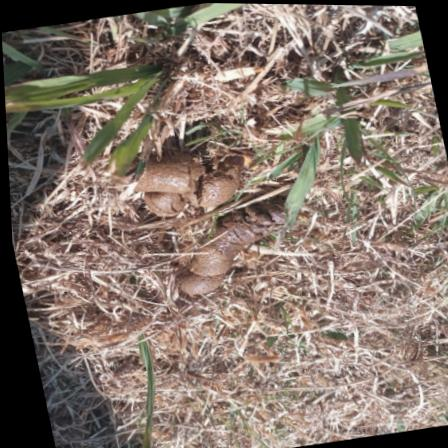dog-poop: (144, 198, 303, 297), (109, 140, 254, 220)
